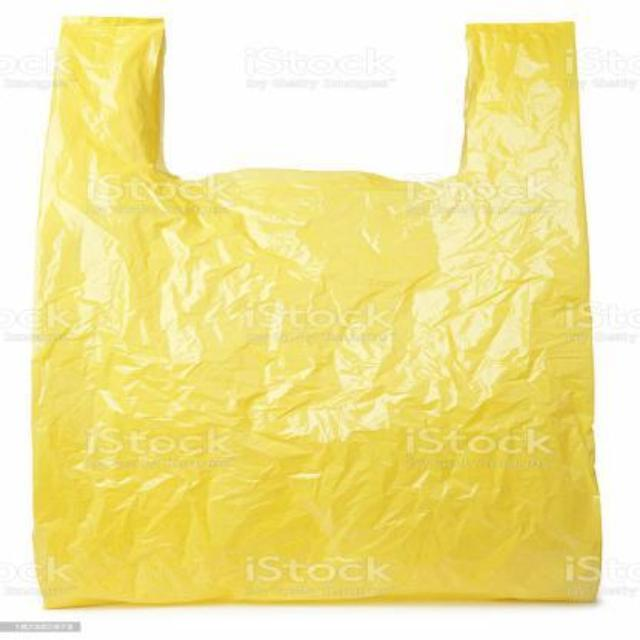sacola plástica: (18, 14, 608, 616)
